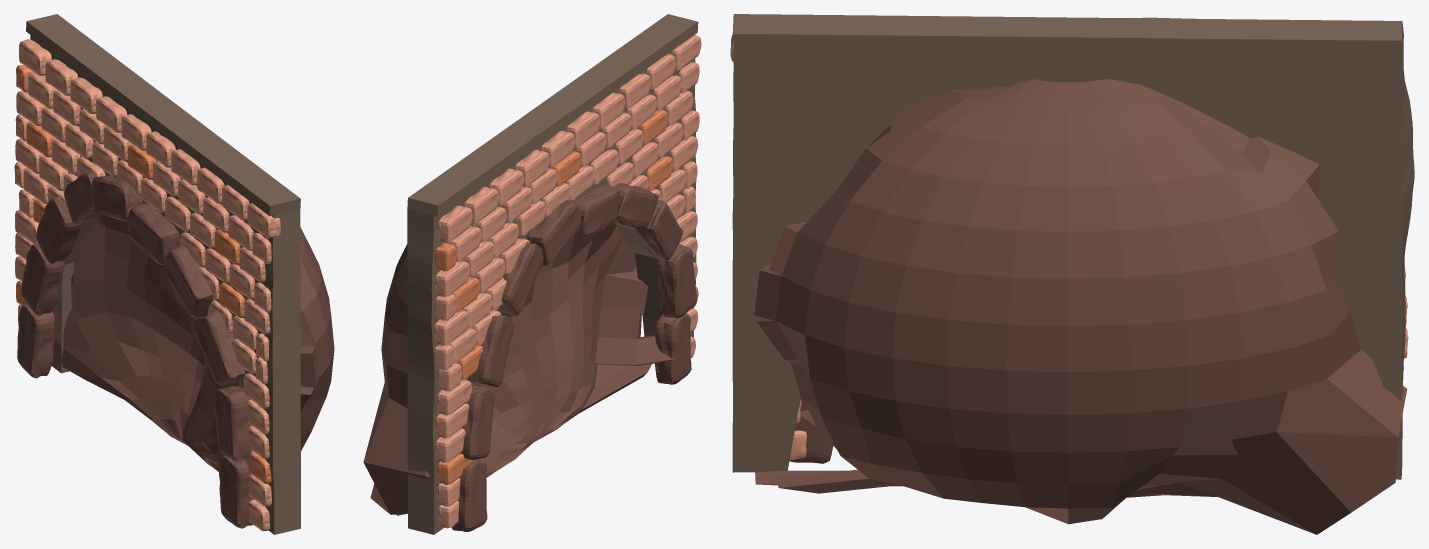
Rendered from RailwayWall.fbx.
The picture shows the model from 3 angles, left to right: view 1: azimuth 30°, elevation 25°; view 2: azimuth 150°, elevation 25°; view 3: azimuth 270°, elevation 25°; orthographic projection. The views are drawn at different scales.
Parts seen in each view (by area): view 1: Sphere; view 2: Sphere; view 3: Sphere.
Part boxes in pixels (x1,y1,x2,y2): Sphere: (14,14,334,534); Sphere: (363,14,701,534); Sphere: (730,14,1414,534).
Bounding box in the file's own units: 613 × 1275 × 1689.
